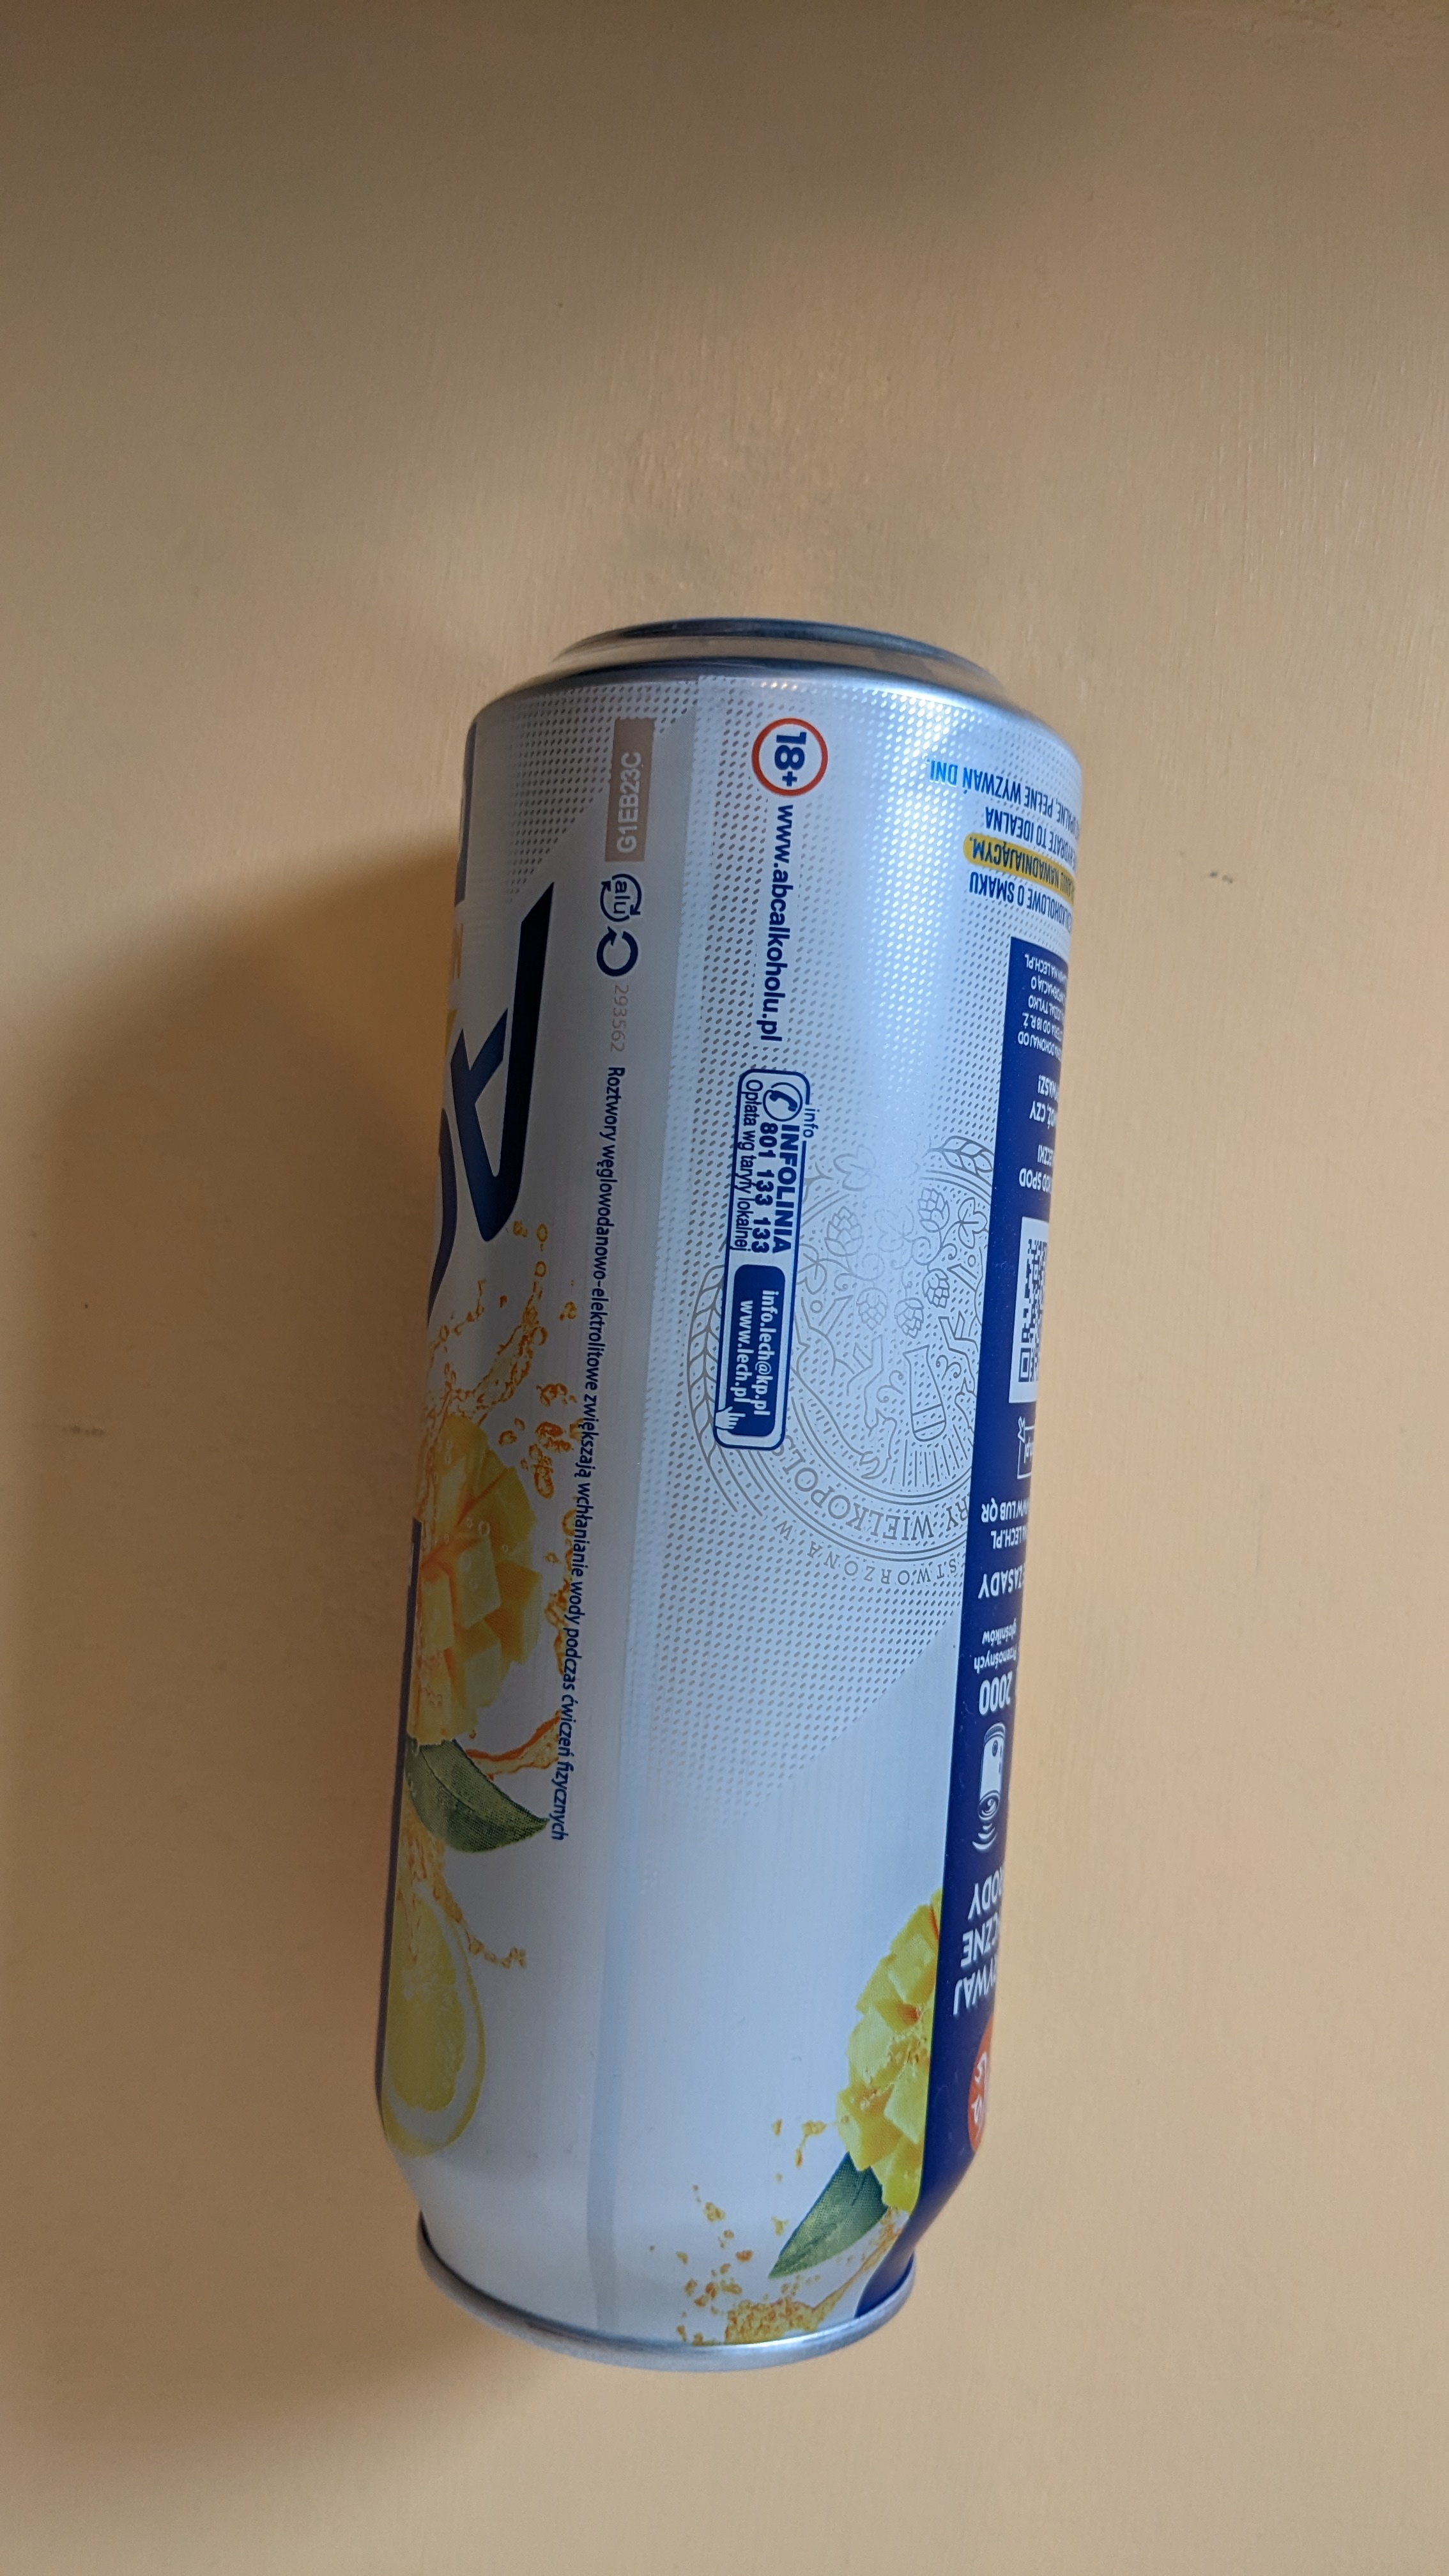lech-active: (386, 617, 1113, 2381)
